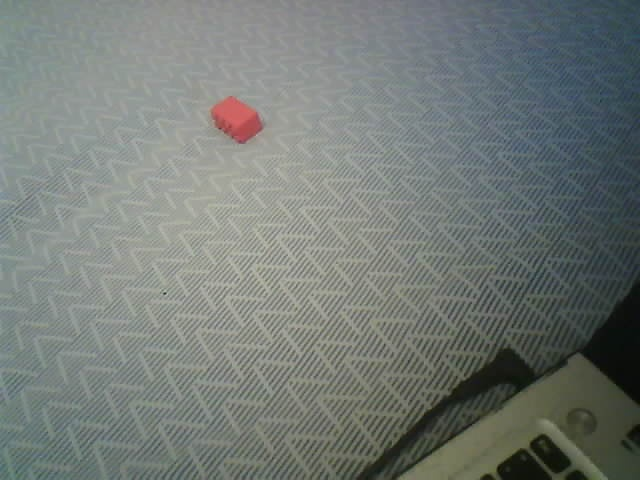lego: (210, 95, 264, 144)
